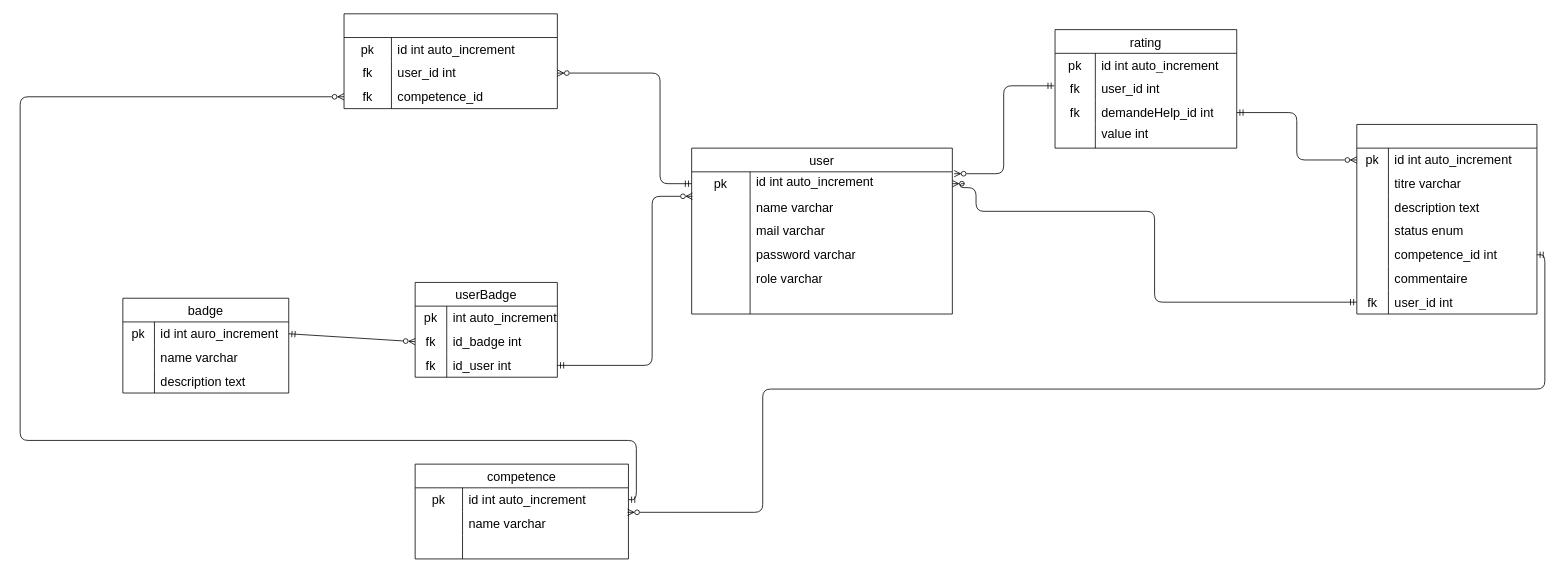
Some shapes in this 1566 by 573 pixel diagram are drawn without their labels. Here are the shapes that lost their labels. From the top down, the box of each, then its label:
(343, 13, 557, 109): userCompetenc
(1356, 124, 1537, 314): DemandeHelp
